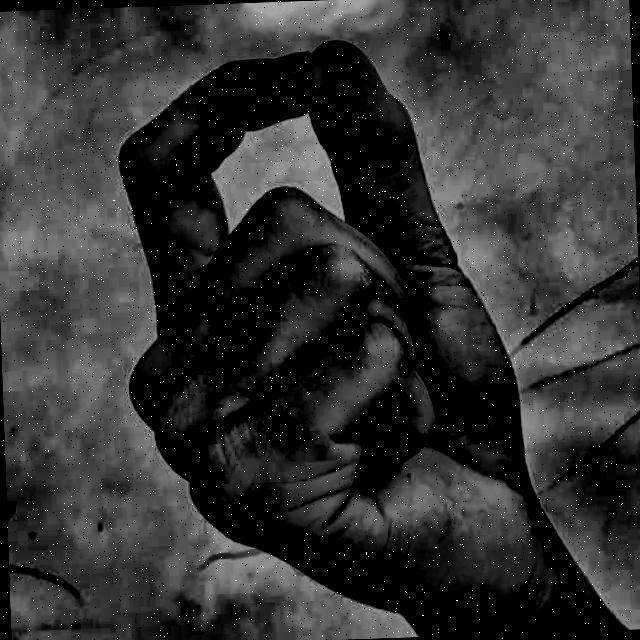Gha: (76, 16, 579, 640)
